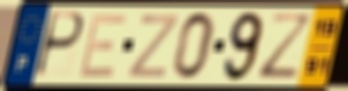0: (169, 11, 221, 82)
9: (221, 10, 267, 84)
E: (76, 11, 130, 80)
P: (32, 10, 87, 81)
Z: (255, 11, 317, 83), (125, 12, 182, 80)
